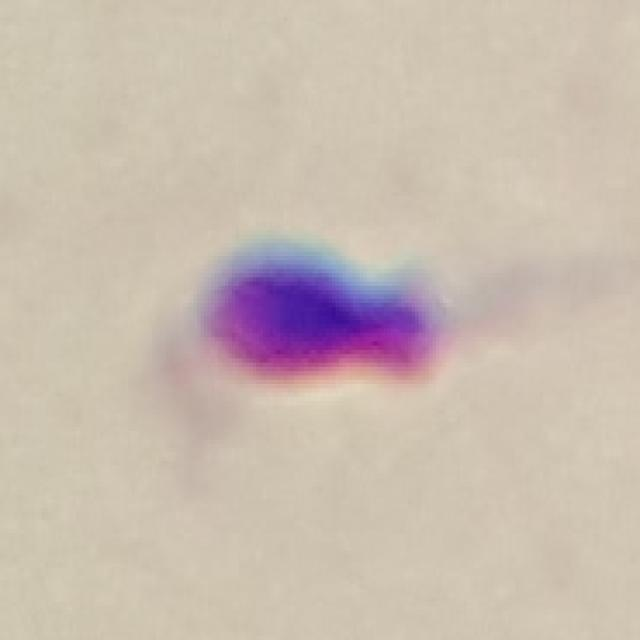abnormal sperm: (196, 239, 562, 390)
